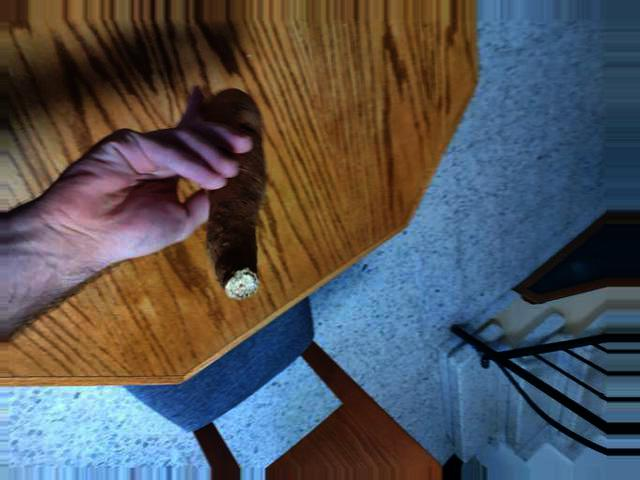sweet_potato: (194, 102, 283, 283)
